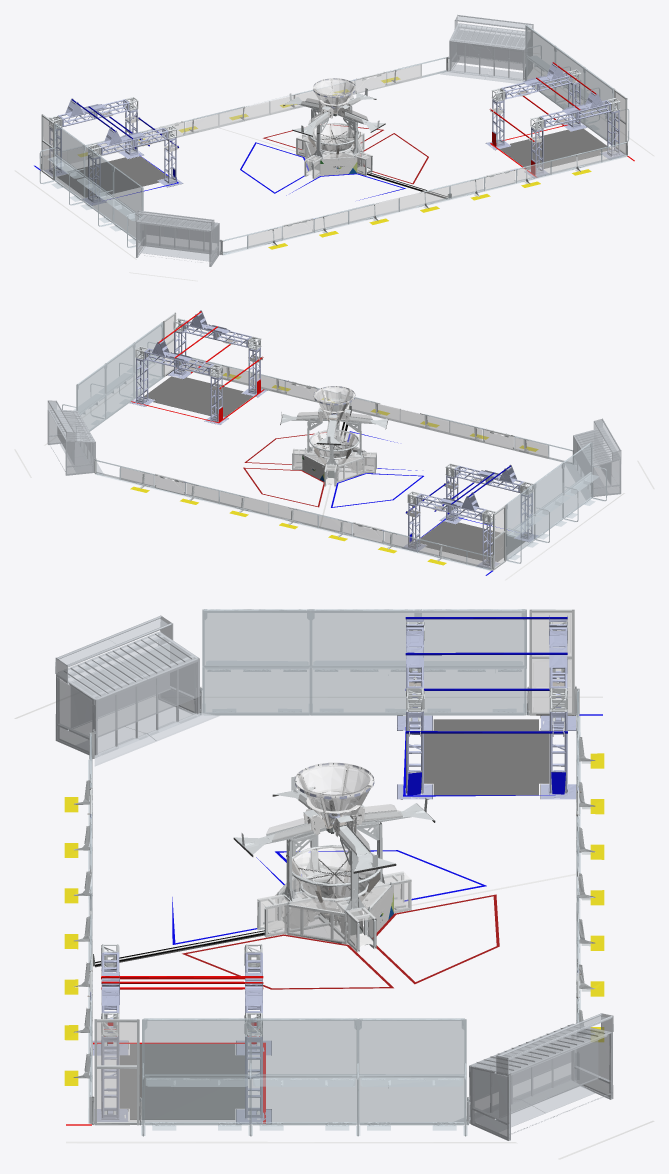
The model's file is field-2022-De9Fh-Ak.glb.
The picture shows the model from 3 angles, top to bottom: view 1: azimuth 30°, elevation 25°; view 2: azimuth 150°, elevation 25°; view 3: azimuth 270°, elevation 25°; orthographic projection. The views are drawn at different scales.
Parts seen in each view (by area): view 1: FE-00009, FE-00005-02 (×2), GE-22008, CARGORINGS_HUB, FE-00003-02, blockerTapeStrip_mockV2, tapeline_STARTINGLINE, FE-00015, tapeline_ALLIANCESTATION_red, tapeline_TARMAC_blue, tapeline_TARMAC, GE-22306; view 2: FE-00005-02 (×2), FE-00009, CARGORINGS_HUB, FE-00003-02, GE-22008, blockerTapeStrip_mockV2, tapeline_STARTINGLINE, FE-00015, tapeline_ALLIANCESTATION_red, tapeline_TARMAC_blue, tapeline_TARMAC, GE-22306; view 3: FE-00005-02 (×2), GE-22008, FE-00009, FE-00003-02, blockerTapeStrip_mockV2, CARGORINGS_HUB, tapeline_STARTINGLINE, FE-00015, tapeline_ALLIANCESTATION_red, tapeline_TARMAC_blue, GE-22150_blue, tapeline_TARMAC (+2 smaller).
Part boxes in pixels (box(x1,y1,x2,y2)): FE-00009: box(43, 64, 626, 247); FE-00005-02 (×2): box(39, 24, 629, 255); GE-22008: box(135, 15, 533, 266); CARGORINGS_HUB: box(44, 61, 624, 251); FE-00003-02: box(41, 56, 627, 254); blockerTapeStrip_mockV2: box(57, 102, 611, 197); tapeline_STARTINGLINE: box(14, 52, 654, 281); FE-00015: box(78, 77, 591, 249); tapeline_ALLIANCESTATION_red: box(489, 62, 634, 177); tapeline_TARMAC_blue: box(34, 142, 405, 200); tapeline_TARMAC: box(263, 124, 428, 184); GE-22306: box(305, 135, 362, 158); FE-00005-02 (×2): box(62, 322, 606, 570); FE-00009: box(121, 313, 548, 568); CARGORINGS_HUB: box(130, 310, 538, 568); FE-00003-02: box(94, 312, 592, 570); GE-22008: box(47, 400, 621, 499); blockerTapeStrip_mockV2: box(144, 376, 525, 561); tapeline_STARTINGLINE: box(14, 355, 654, 580); FE-00015: box(130, 373, 538, 565); tapeline_ALLIANCESTATION_red: box(131, 311, 264, 423); tapeline_TARMAC_blue: box(331, 431, 508, 575); tapeline_TARMAC: box(243, 432, 326, 507); GE-22306: box(305, 441, 363, 465); FE-00005-02 (×2): box(88, 609, 580, 1136); GE-22008: box(55, 615, 613, 1140); FE-00009: box(92, 610, 576, 1121); FE-00003-02: box(73, 609, 595, 1125); blockerTapeStrip_mockV2: box(119, 719, 549, 1119); CARGORINGS_HUB: box(90, 615, 578, 1123); tapeline_STARTINGLINE: box(14, 696, 654, 1159); FE-00015: box(64, 753, 604, 1085); tapeline_ALLIANCESTATION_red: box(66, 976, 265, 1125); tapeline_TARMAC_blue: box(172, 714, 602, 944); GE-22150_blue: box(405, 617, 567, 733); tapeline_TARMAC: box(182, 894, 499, 989).
Size of the model in its own units: 19.35 by 2.64 by 10.92.
